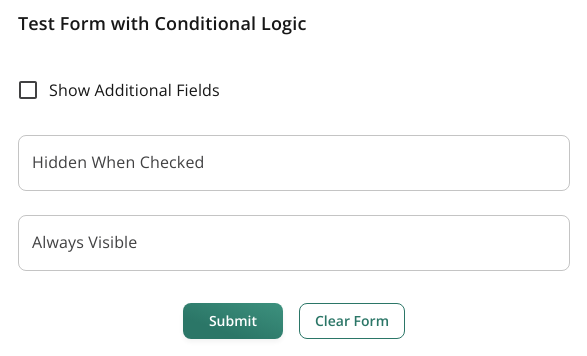
Scenario: FormRenderer - Conditional Logic Integration › should hide conditional elements when checkbox is unchecked
Click the checkbox labelled "Show Additional Fields".
click(118, 90)  # box [16,78,220,102]
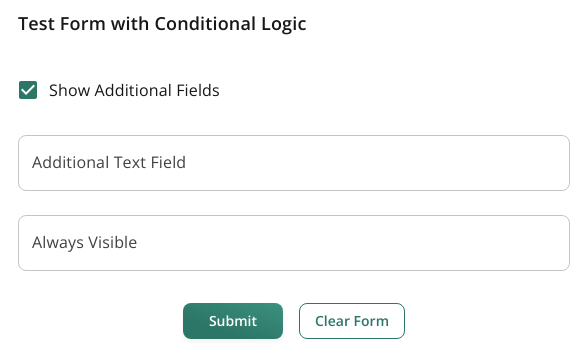
Check: the field labelled "Additional Text Field" is shown, box [18,135,570,191]
Click the checkbox labelled "Show Additional Fields".
click(118, 90)  # box [16,78,220,102]
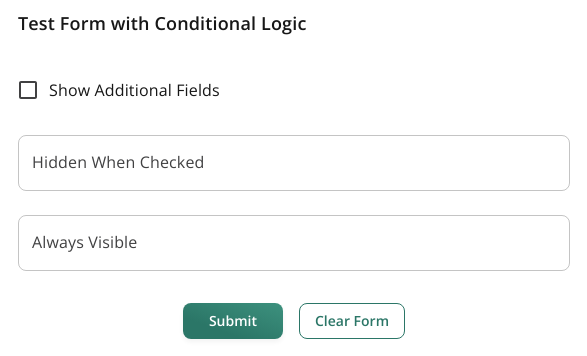
Check: the field labelled "Hidden When Checked" is shown, box [18,135,570,191]
Check: the label labelled "Additional Text Field" is gone
